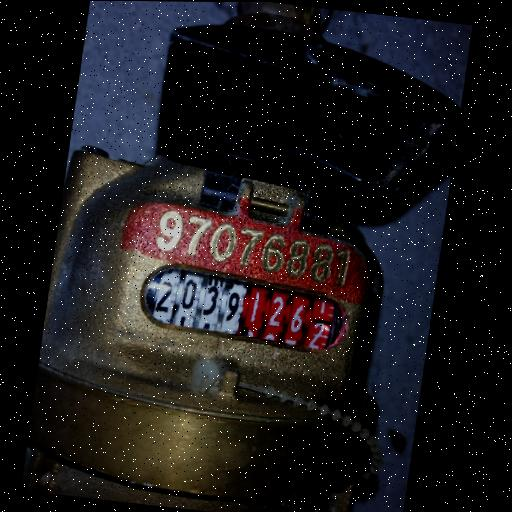0: (174, 269, 207, 329)
1: (242, 283, 271, 340)
2: (152, 265, 182, 325), (304, 296, 336, 352), (262, 287, 291, 343)
3: (197, 275, 227, 332)
6: (282, 291, 312, 347)
9: (219, 279, 249, 336)
border_water_meter_number: (131, 257, 357, 359)
